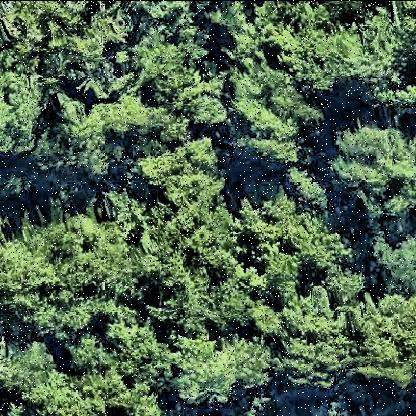tree-top: (126, 133, 238, 307), (3, 212, 137, 333), (278, 287, 416, 389), (238, 192, 344, 298), (227, 69, 323, 163), (45, 336, 148, 416), (334, 126, 416, 224), (165, 333, 277, 403), (55, 4, 131, 86), (289, 8, 363, 92), (45, 101, 115, 171), (1, 58, 47, 160), (136, 38, 206, 104), (103, 87, 165, 141), (363, 231, 416, 279)
